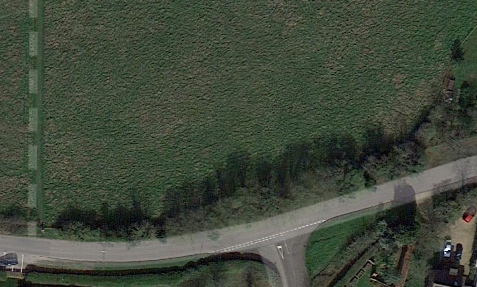tree: (340, 164, 378, 196)
